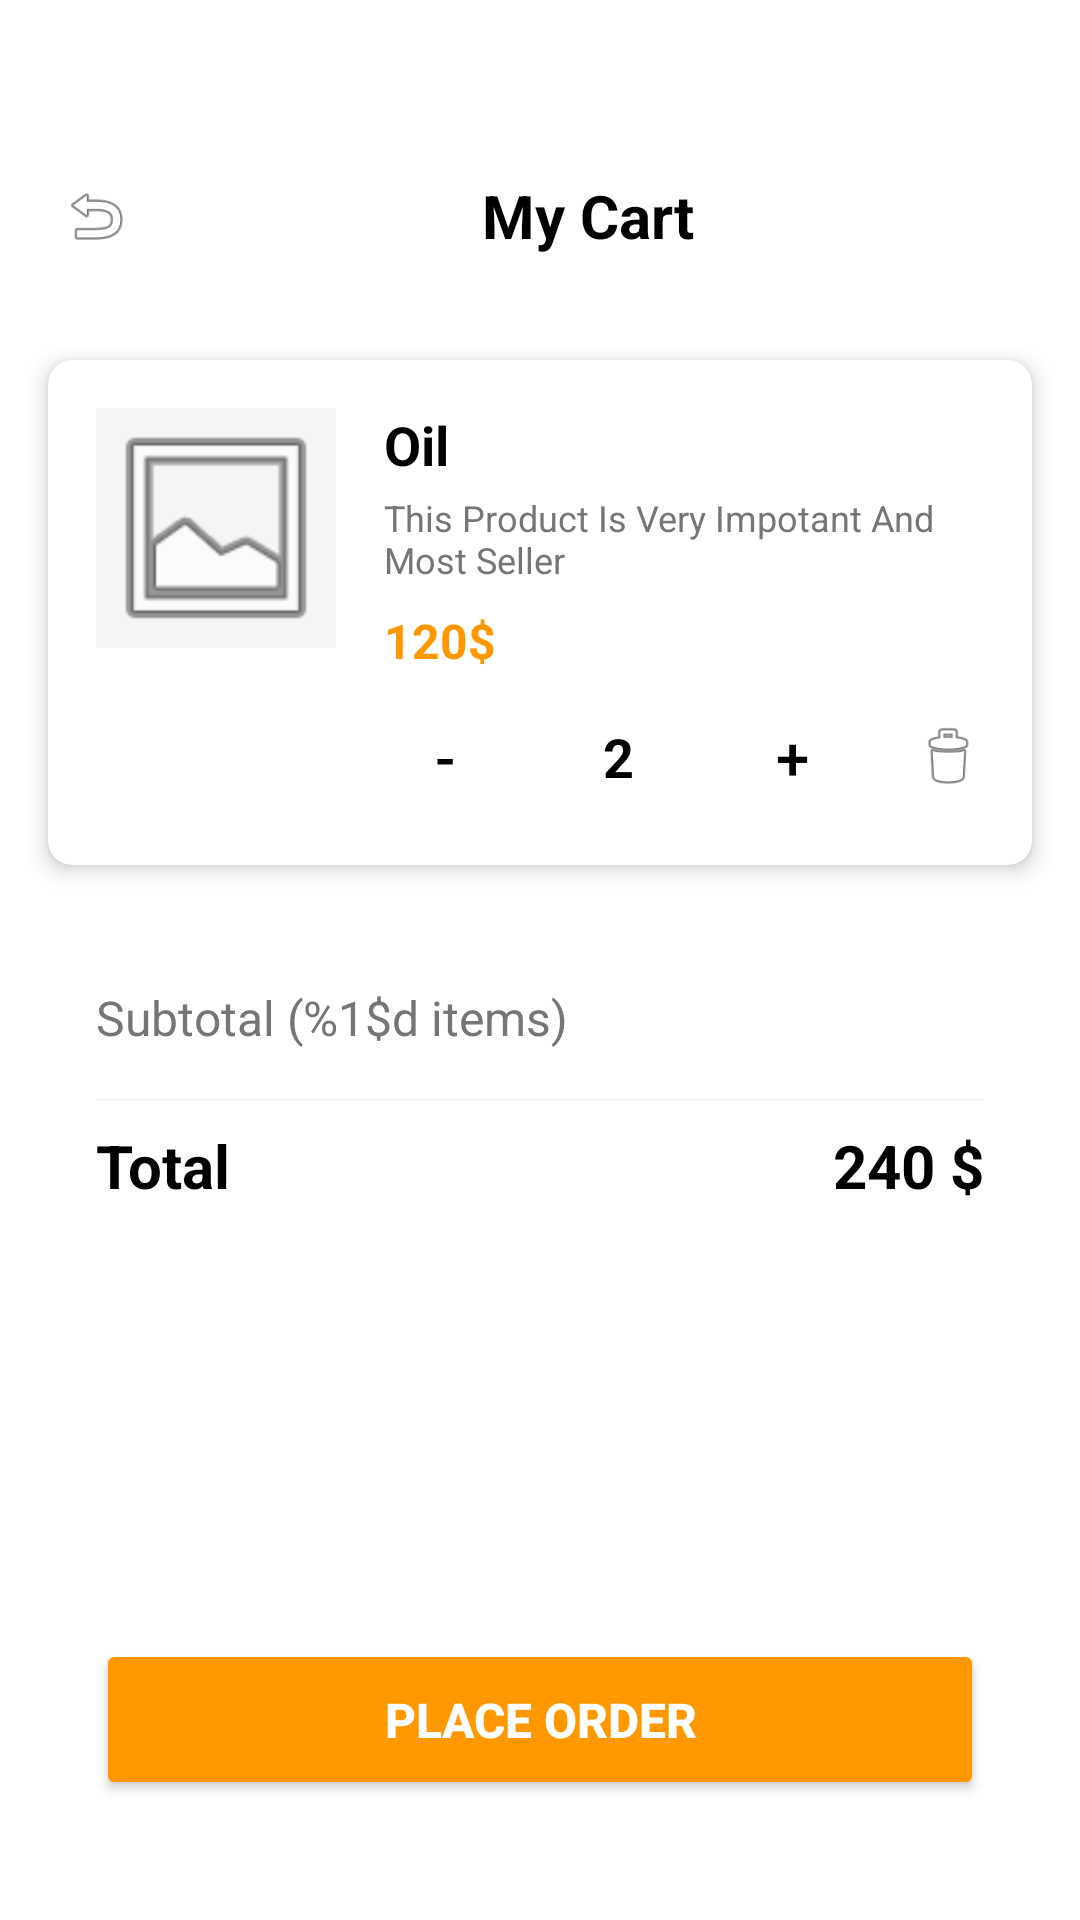

Icons on this 1080×1920 Android screen, each with its box as (x1=x1, y1=y1, x2=x2, y2=y2):
Back: (x1=71, y1=193, x2=123, y2=240)
